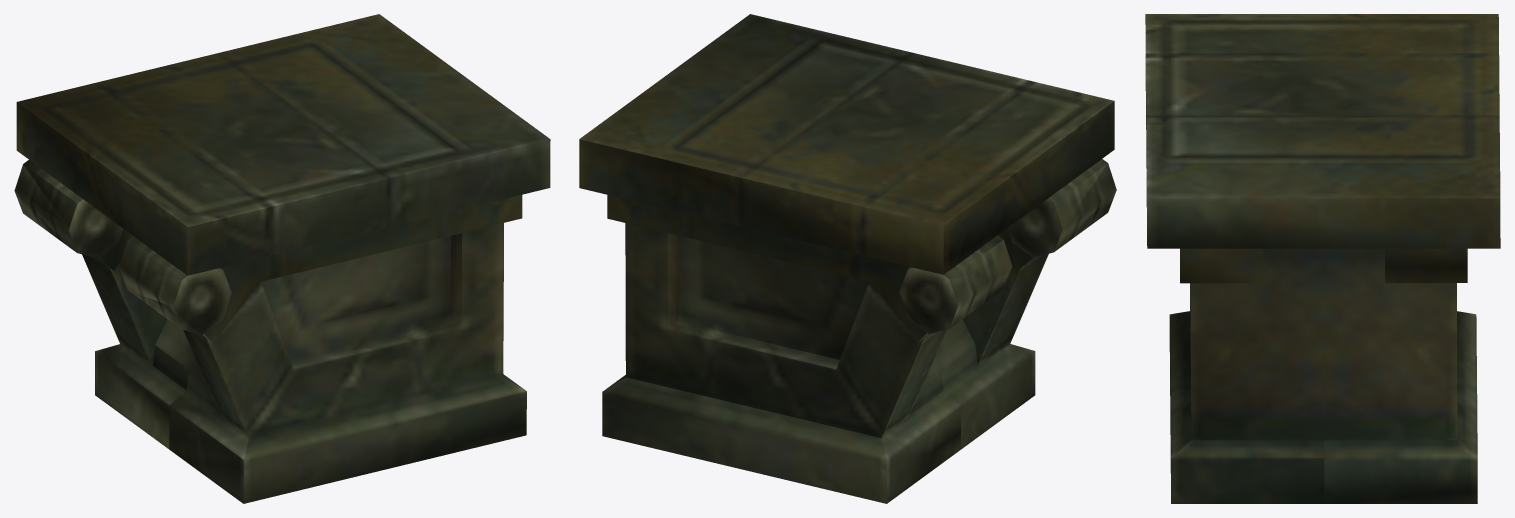
File: fxmg_lizhu4.FBX
3 views of the same model, side by side, from view 1: azimuth 30°, elevation 25°; view 2: azimuth 150°, elevation 25°; view 3: azimuth 270°, elevation 25° (orthographic). The views are drawn at different scales.
Visible parts, largest first — view 1: KLMSM_lizhu4; view 2: KLMSM_lizhu4; view 3: KLMSM_lizhu4.
Boxes of the visible parts, box(x1,y1,x2,y2) form: KLMSM_lizhu4: box(14, 14, 550, 503); KLMSM_lizhu4: box(579, 14, 1116, 503); KLMSM_lizhu4: box(1145, 14, 1500, 503).
Bounding box in the file's own units: 118 × 92.19 × 94.8.
